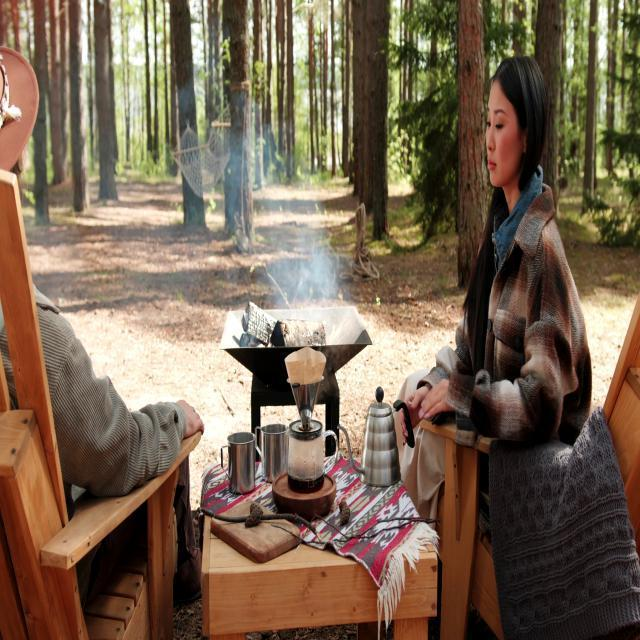Smoke: (184, 136, 358, 337)
